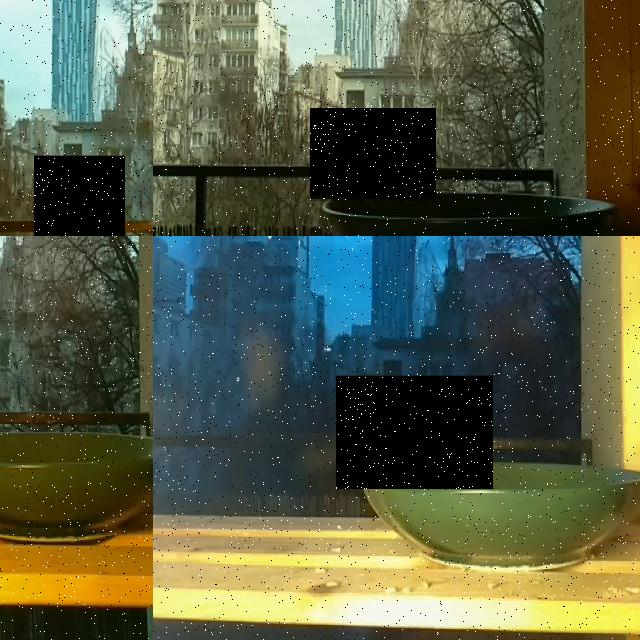Bogatka: (336, 376, 493, 489)
Modraszka: (34, 155, 125, 236)
Wrobel: (310, 108, 436, 200)
